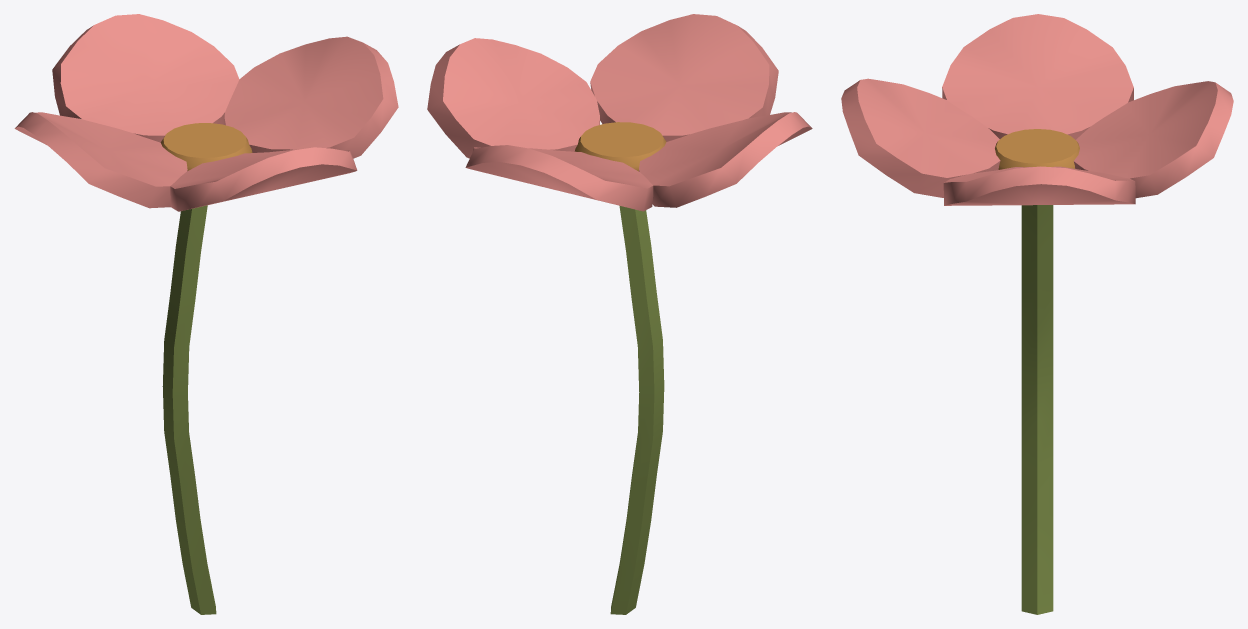
The model's file is flor2.fbx.
The picture shows the model from 3 angles, left to right: view 1: azimuth 30°, elevation 25°; view 2: azimuth 150°, elevation 25°; view 3: azimuth 270°, elevation 25°; orthographic projection.
Visible parts, largest first — view 1: petala1, petala2, pCylinder2, petala4, petala3, centro; view 2: petala3, petala2, pCylinder2, petala4, petala1, centro; view 3: petala4, pCylinder2, petala3, petala1, petala2, centro.
Boxes of the visible parts, <box> form: petala1: <box>52,14,239,142</box>; petala2: <box>224,36,398,158</box>; pCylinder2: <box>162,205,216,614</box>; petala4: <box>14,112,187,208</box>; petala3: <box>170,147,357,211</box>; centro: <box>160,123,252,170</box>; petala3: <box>590,14,778,141</box>; petala2: <box>427,38,599,158</box>; pCylinder2: <box>610,205,664,614</box>; petala4: <box>639,112,812,207</box>; petala1: <box>465,145,653,211</box>; centro: <box>574,122,666,171</box>; petala4: <box>942,14,1133,139</box>; pCylinder2: <box>1021,205,1053,614</box>; petala3: <box>841,78,1000,197</box>; petala1: <box>1073,81,1233,198</box>; petala2: <box>943,166,1135,205</box>; centro: <box>995,129,1079,169</box>.
Size of the model in its own units: 4.73 by 6.92 by 4.73.
